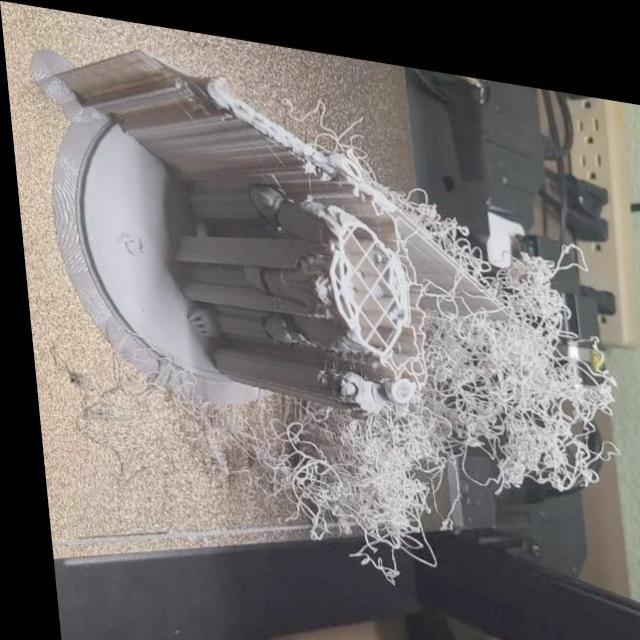spaghetti: (421, 286, 579, 461), (314, 379, 427, 487), (254, 408, 328, 501), (497, 234, 574, 315), (331, 476, 412, 546)
